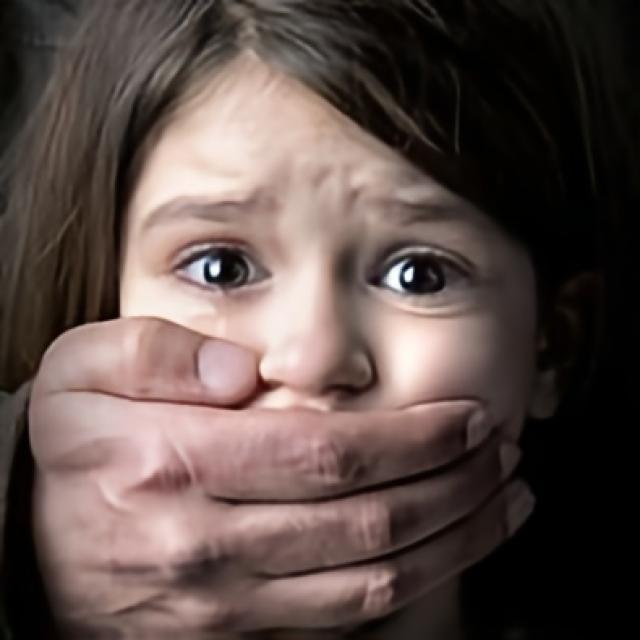fear: (113, 45, 542, 640)
